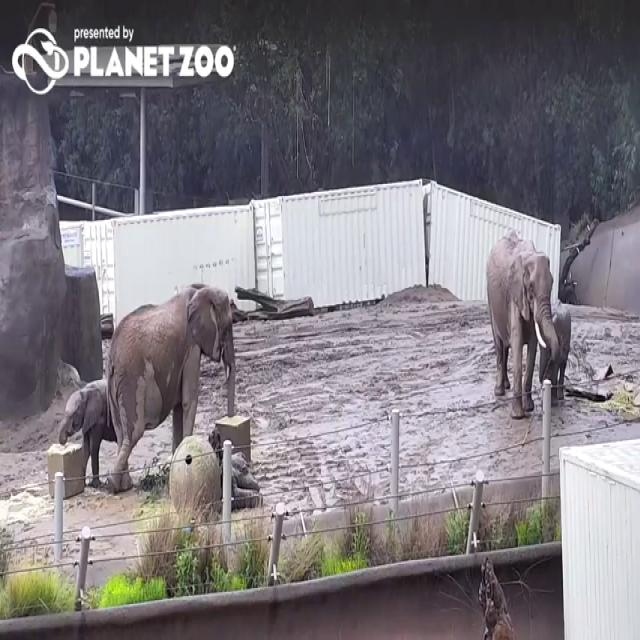Elephant: (105, 283, 235, 492), (486, 228, 558, 419), (58, 377, 118, 487), (537, 304, 571, 405)
